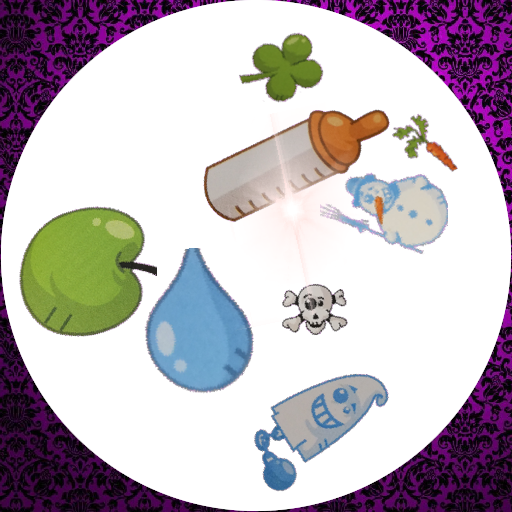apple_icon: (7, 190, 157, 340)
bottle_icon: (194, 58, 399, 263)
carrot_icon: (392, 104, 467, 179)
cloverleaf_icon: (237, 18, 325, 106)
ghost_icon: (239, 344, 400, 505)
raindrop_icon: (126, 248, 274, 396)
skull_icon: (278, 270, 355, 347)
snowman_icon: (320, 150, 448, 278)
